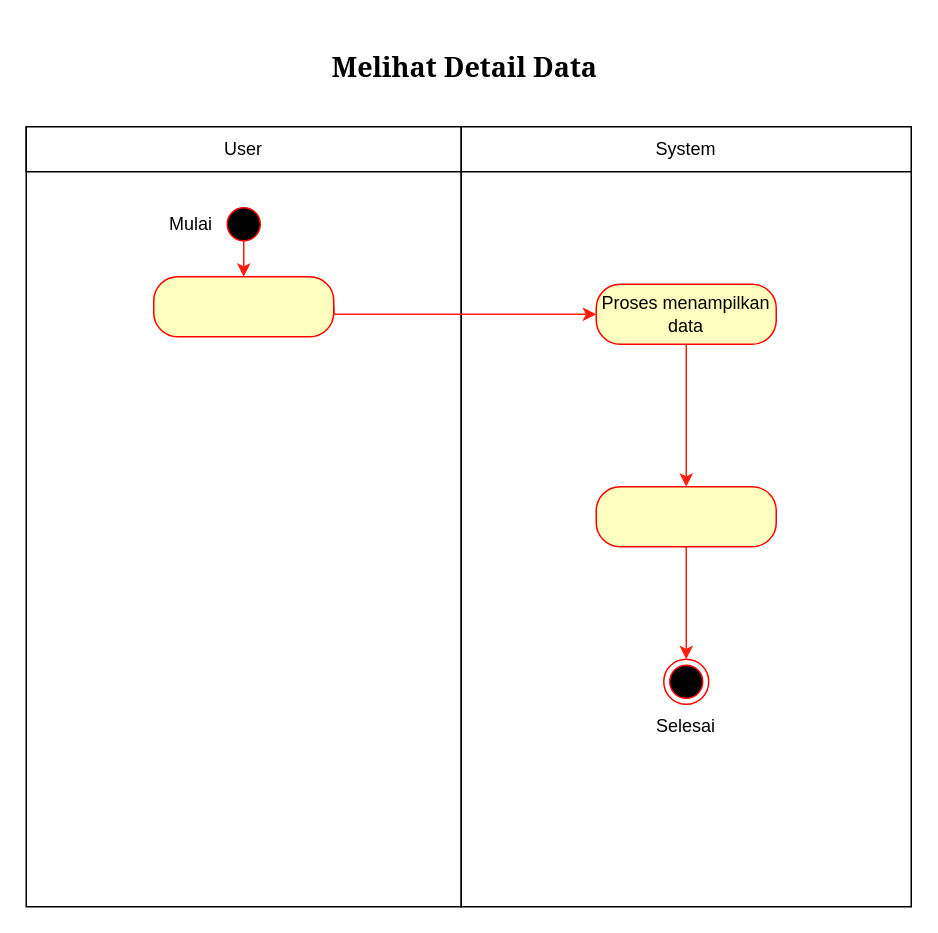
Some shapes in this 938 by 933 pixel diagram are drawn without their labels. Here are the shapes that lost their labels. From the top down, the centre of each, then its label:
(243,306): Membuka halaman utama Website
(685,516): Menampilkan Data
